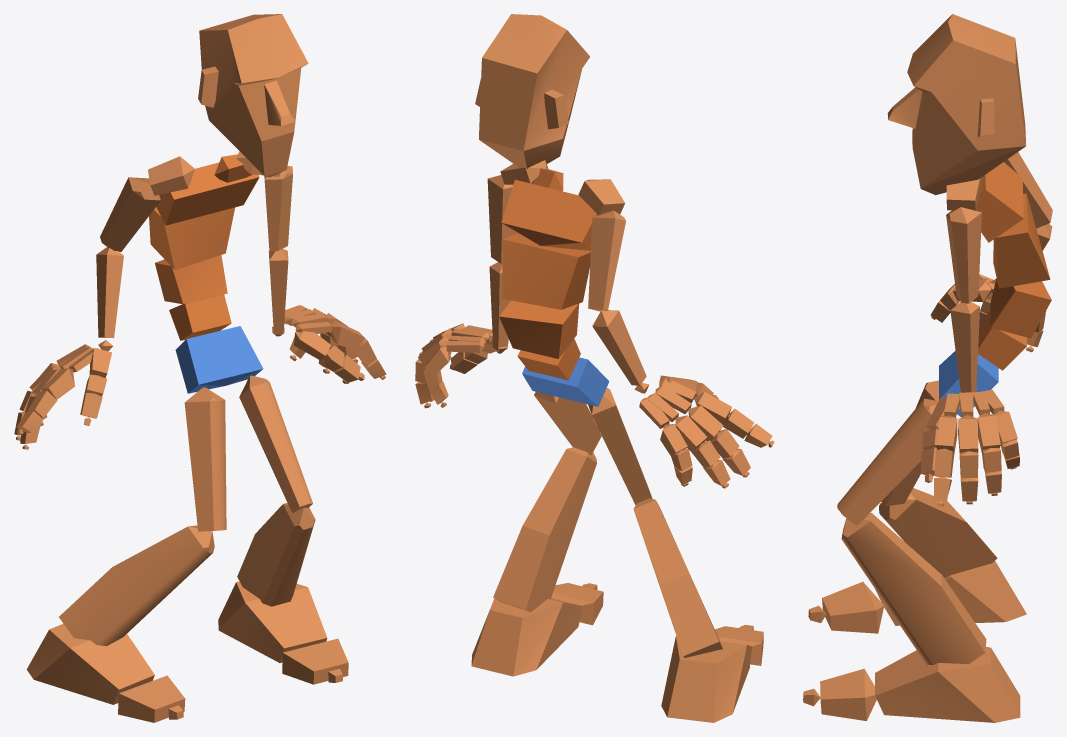
File: personaje33.obj
3 views of the same model, side by side, from view 1: azimuth 30°, elevation 25°; view 2: azimuth 150°, elevation 25°; view 3: azimuth 270°, elevation 25° (orthographic). The views are drawn at different scales.
Visible parts, largest first — view 1: BOPED_Head, BOPED_R_leg, BOPED_R_foot, BOPED_R_foot01, BOPED_L_leg, BOPED_R_legup, BOPED_L_legup, Bone01, Bone04, Bone05, Bone03, BOPED_R_arm_upper (+11 smaller); view 2: BOPED_Head, BOPED_L_leg, BOPED_R_foot01, BOPED_R_foot, BOPED_R_leg, Bone04, Bone05, Bone03, BOPED_R_arm_upper, BOPED_R_legup, Bone01, BOPED_L_legup (+11 smaller); view 3: BOPED_Head, BOPED_L_leg, BOPED_R_foot01, BOPED_R_leg, BOPED_L_legup, BOPED_R_foot, Bone04, Bone05, BOPED_L_arm_upper, Bone03, BOPED_R_foot_toe01, BOPED_R_foot_toe04 (+13 smaller).
Boxes of the visible parts, x1,y1,x2,y2 form: BOPED_Head: (198, 14, 308, 177); BOPED_R_leg: (59, 525, 214, 646); BOPED_R_foot: (26, 623, 154, 704); BOPED_R_foot01: (218, 581, 327, 662); BOPED_L_leg: (237, 503, 315, 606); BOPED_R_legup: (184, 387, 226, 531); BOPED_L_legup: (239, 375, 312, 512); Bone01: (175, 326, 263, 393); Bone04: (149, 207, 235, 269); Bone05: (156, 162, 259, 225); Bone03: (155, 255, 227, 304); BOPED_R_arm_upper: (100, 177, 160, 251); BOPED_Head: (475, 14, 589, 168); BOPED_L_leg: (493, 447, 596, 612); BOPED_R_foot01: (471, 598, 582, 676); BOPED_R_foot: (661, 636, 751, 722); BOPED_R_leg: (633, 498, 722, 657); Bone04: (502, 233, 590, 309); Bone05: (501, 179, 598, 250); Bone03: (499, 300, 579, 358); BOPED_R_arm_upper: (588, 210, 625, 311); BOPED_R_legup: (588, 388, 652, 505); Bone01: (522, 357, 609, 406); BOPED_L_legup: (534, 392, 601, 455); BOPED_Head: (887, 14, 1026, 195); BOPED_L_leg: (841, 512, 986, 664); BOPED_R_foot01: (875, 647, 1020, 722); BOPED_R_leg: (879, 488, 997, 577); BOPED_L_legup: (837, 398, 938, 525); BOPED_R_foot: (875, 561, 1026, 625); Bone04: (993, 193, 1050, 288); Bone05: (976, 162, 1023, 242); BOPED_L_arm_upper: (946, 207, 981, 303); Bone03: (990, 278, 1051, 338); BOPED_R_foot_toe01: (822, 581, 884, 633); BOPED_R_foot_toe04: (820, 668, 876, 720).
Size of the model in its own units: 102 by 170 by 56.73.
